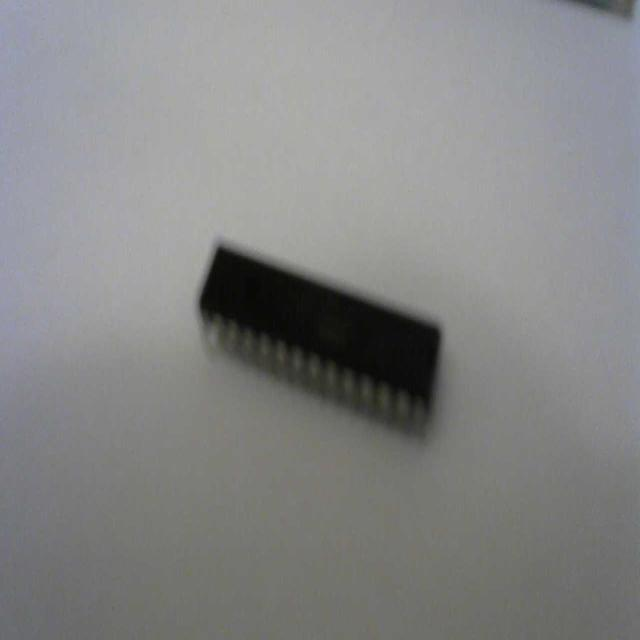atmega: (195, 234, 444, 442)
